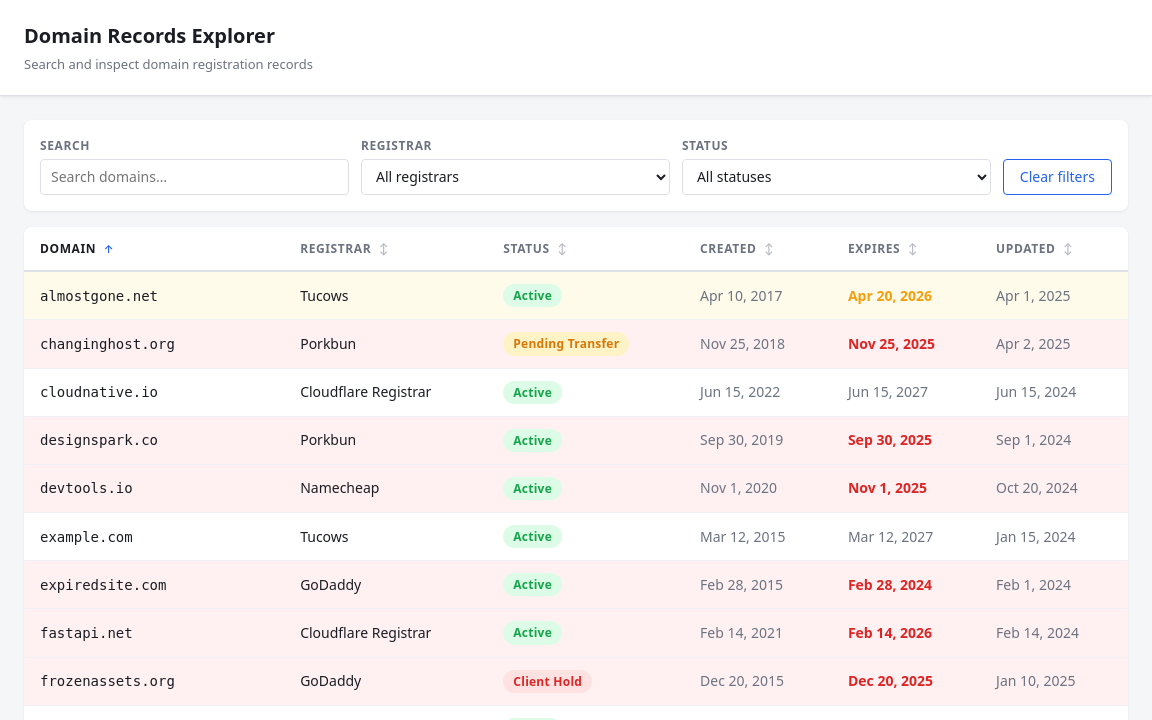
Test: Domain Records Explorer › status filter › filters rows to only clientHold domains
Select "Client Hold" in the dropdown with id "filter-status" at (837, 177), box [682,159,991,195]
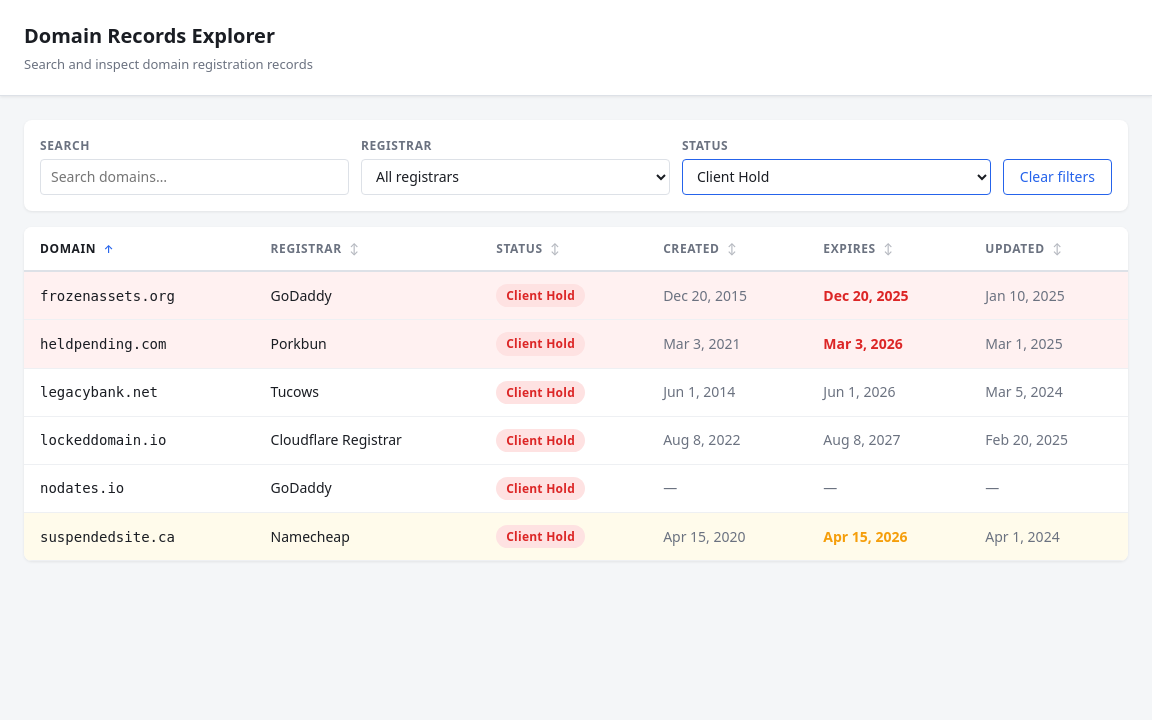
Result: the number of rows is more than 0
Result: the number of elements with class "badge--clientHold" is more than 0
Result: the text with class "badge--active" is gone
